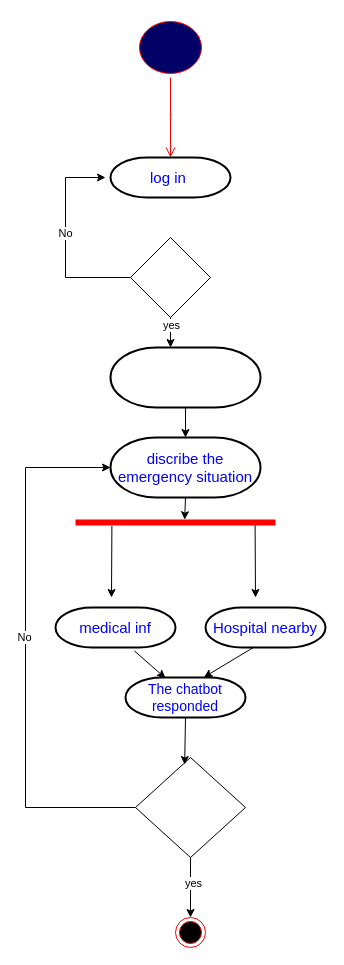
Image size: 344x965. Some labels were removed from this diagram. The shapes that lost their labels are listed below. From the top down, each one's centre as x and y in pixels, then its label:
At point 170,277: "Right information ?".
At point 185,377: "Initiate Emergency Chat".
At point 190,807: "The replay is helpful ?".
